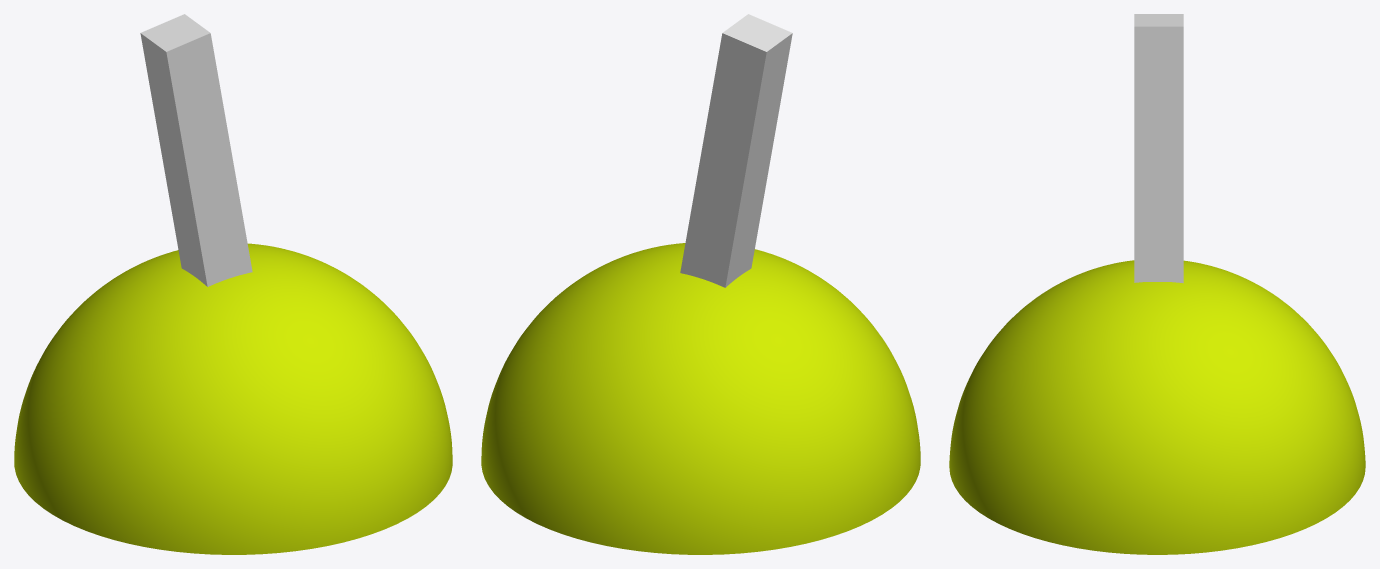
The model's file is turret.fbx.
3 views of the same model, side by side, from view 1: azimuth 30°, elevation 25°; view 2: azimuth 150°, elevation 25°; view 3: azimuth 270°, elevation 25° (orthographic). The views are drawn at different scales.
Parts seen in each view (by area): view 1: root, Cube; view 2: root, Cube; view 3: root, Cube.
Part boxes in pixels (x1=…): root: x1=14, y1=243, x2=452, y2=554; Cube: x1=140, y1=14, x2=252, y2=286; root: x1=481, y1=243, x2=920, y2=554; Cube: x1=680, y1=14, x2=792, y2=287; root: x1=949, y1=260, x2=1365, y2=554; Cube: x1=1134, y1=14, x2=1183, y2=283.
Bounding box in the file's own units: 4.01 × 4.5 × 4.01.
